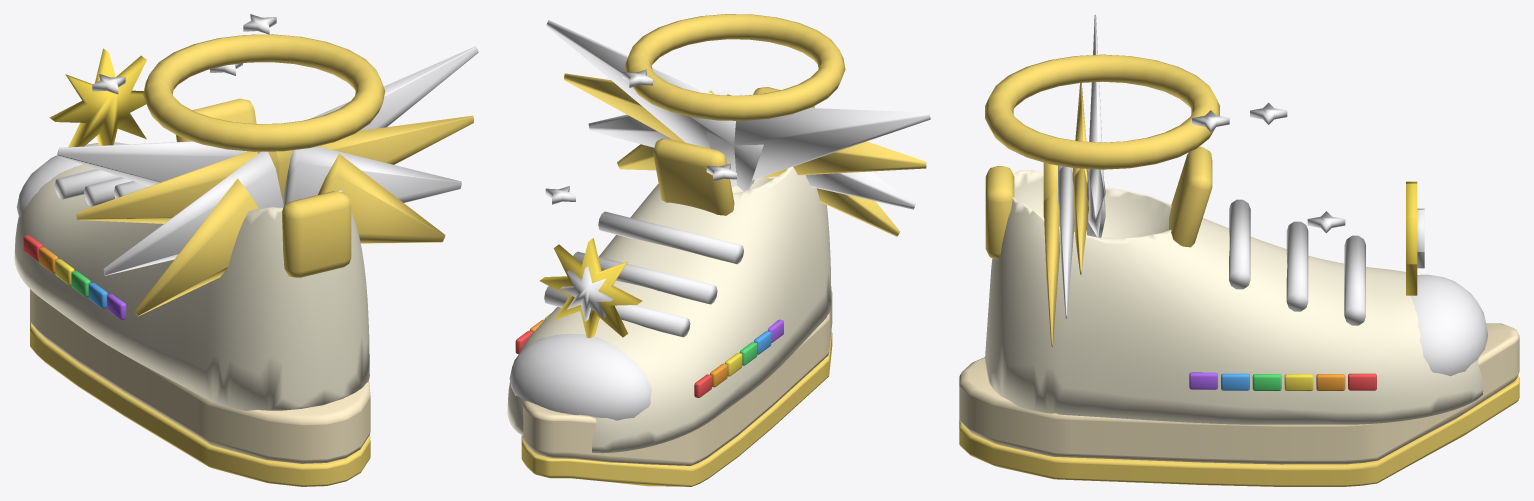
The model's file is shoe_bigbangboots.fbx.
3 views of the same model, side by side, from view 1: azimuth 30°, elevation 25°; view 2: azimuth 150°, elevation 25°; view 3: azimuth 270°, elevation 25° (orthographic). The views are drawn at different scales.
Visible parts, largest first — view 1: shoe_bigbangboots; view 2: shoe_bigbangboots; view 3: shoe_bigbangboots.
Boxes of the visible parts, left/top/right/bottom form: shoe_bigbangboots: left=14, top=14, right=478, bottom=486; shoe_bigbangboots: left=507, top=14, right=930, bottom=486; shoe_bigbangboots: left=959, top=14, right=1519, bottom=486.
Size of the model in its own units: 3.29 by 2.67 by 3.88.
Materials: 1 (1 with a texture image).
